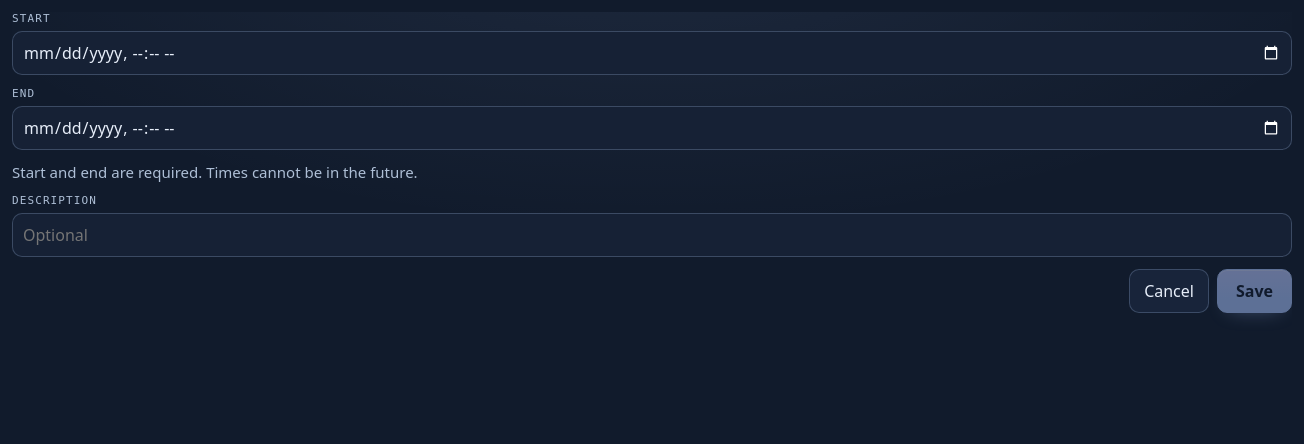
Test: ManualEntryDialog › editing › idle time counts as recorded time in the overlap preview
In the field with test id "start-input": x=652, y=53 [12,31,1292,75], type "2026-09-09T09:30"
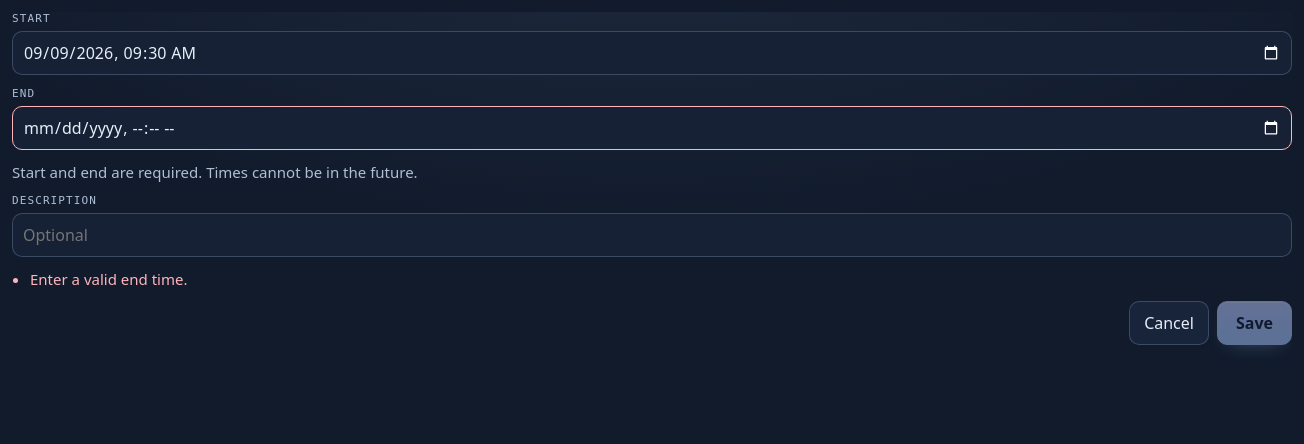
In the field with test id "end-input": x=652, y=128 [12,106,1292,150], type "2026-09-09T10:30"
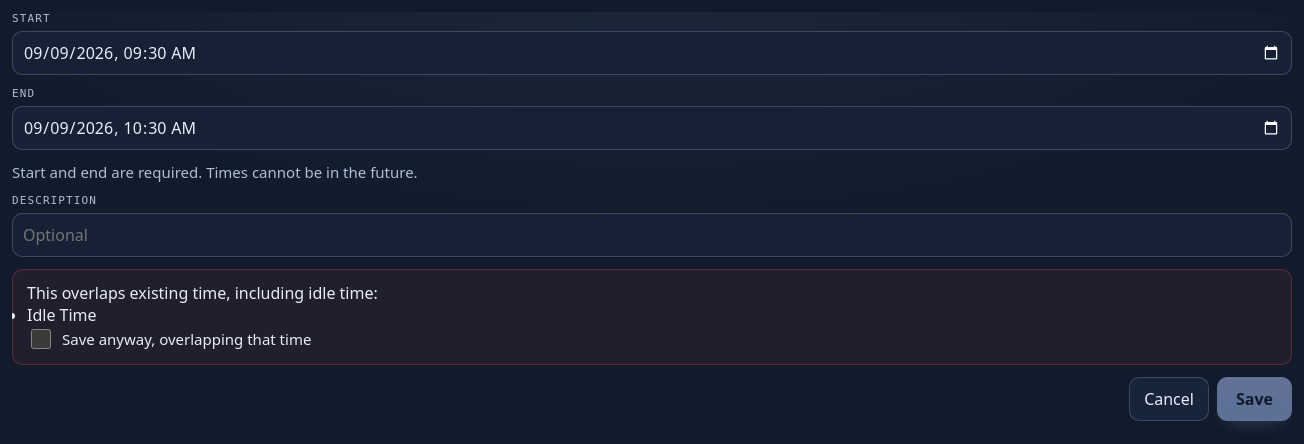
Now the message with test id "overlap-preview" shows "idle", box [27,282,378,304]
